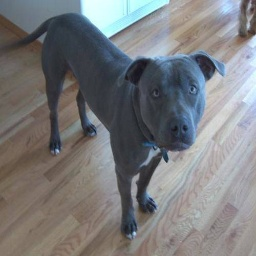dog: (29, 11, 226, 247)
